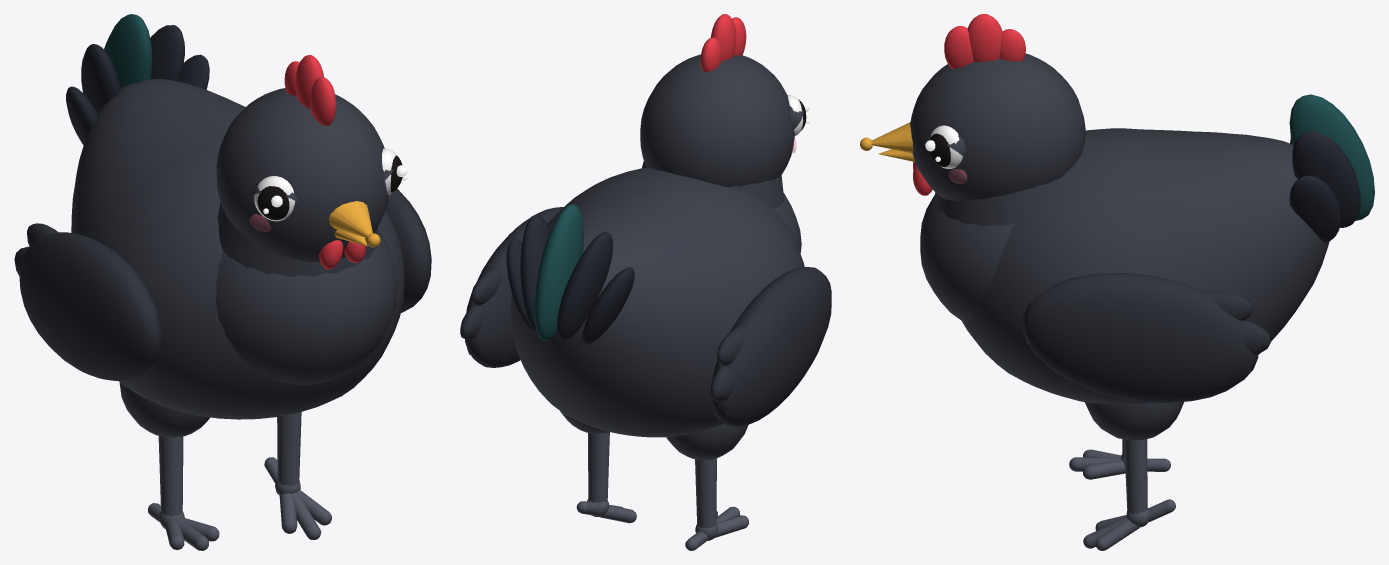
The model's file is hayvan_tavuk.glb.
3 renders of one model, left to right at view 1: azimuth 30°, elevation 25°; view 2: azimuth 150°, elevation 25°; view 3: azimuth 270°, elevation 25°, orthographic. The views are drawn at different scales.
Visible parts, largest first — view 1: ChickenTorso, ChickenHead, BodyGroup, LeftWing, HenTail, Leg_Left, RightWing, NeckPivot, HenComb, Leg_Right_Foot, Leg_Right, Leg_Left_Foot (+4 smaller); view 2: ChickenTorso, ChickenHead, LeftWing, HenTail, RightWing, Leg_Left, HenComb, Leg_Right, Leg_Left_Foot, NeckPivot, Leg_Right_Foot, BodyGroup (+1 smaller); view 3: ChickenTorso, RightWing, ChickenHead, HenTail, BodyGroup, Leg_Right, HenComb, NeckPivot, Leg_Right_Foot, Leg_Left_Foot, RightEye, BeakGroup.
Boxes of the visible parts, box(x1,y1,x2,y2) form: ChickenTorso: box(71, 79, 404, 419); ChickenHead: box(216, 88, 389, 262); BodyGroup: box(216, 228, 397, 385); LeftWing: box(14, 223, 161, 380); HenTail: box(66, 14, 209, 144); Leg_Left: box(119, 382, 210, 516); RightWing: box(385, 188, 431, 312); NeckPivot: box(217, 202, 378, 277); HenComb: box(284, 55, 336, 125); Leg_Right_Foot: box(264, 457, 331, 539); Leg_Right: box(277, 412, 301, 486); Leg_Left_Foot: box(148, 503, 219, 550); ChickenTorso: box(510, 167, 804, 437); ChickenHead: box(640, 54, 794, 187); LeftWing: box(710, 267, 831, 426); HenTail: box(506, 204, 634, 344); RightWing: box(460, 207, 563, 367); Leg_Left: box(666, 424, 748, 528); HenComb: box(700, 14, 746, 72); Leg_Right: box(560, 411, 609, 502); Leg_Left_Foot: box(685, 506, 748, 550); NeckPivot: box(642, 161, 784, 208); Leg_Right_Foot: box(576, 499, 636, 523); BodyGroup: box(773, 193, 801, 253); ChickenTorso: box(962, 128, 1329, 404); RightWing: box(1022, 272, 1270, 402); ChickenHead: box(910, 53, 1085, 201); HenTail: box(1289, 94, 1374, 242); BodyGroup: box(920, 195, 1014, 321); Leg_Right: box(1084, 402, 1183, 514); HenComb: box(944, 14, 1025, 68); NeckPivot: box(935, 178, 1059, 226); Leg_Right_Foot: box(1083, 499, 1175, 550); Leg_Left_Foot: box(1069, 449, 1170, 479); RightEye: box(925, 125, 965, 168); BeakGroup: box(860, 122, 913, 153).
Bounding box in the file's own units: 0.6451 × 0.9941 × 0.9158.
